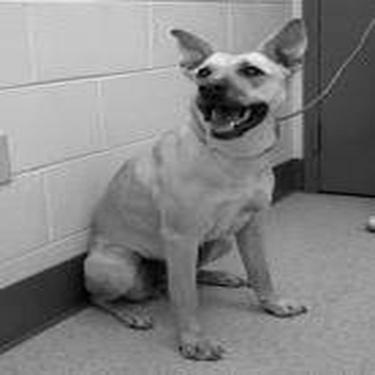dog: (83, 10, 313, 367)
